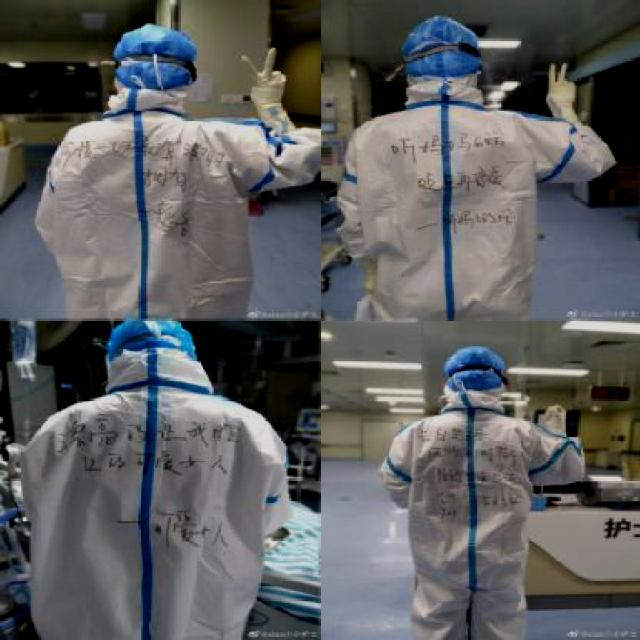hand_glove: (240, 48, 289, 108), (546, 63, 580, 114), (542, 404, 570, 434)
head_nohelmet: (115, 20, 197, 68), (399, 12, 483, 56), (443, 340, 506, 378)
person: (21, 320, 294, 640), (360, 12, 617, 325), (43, 25, 312, 323), (362, 338, 589, 640)
